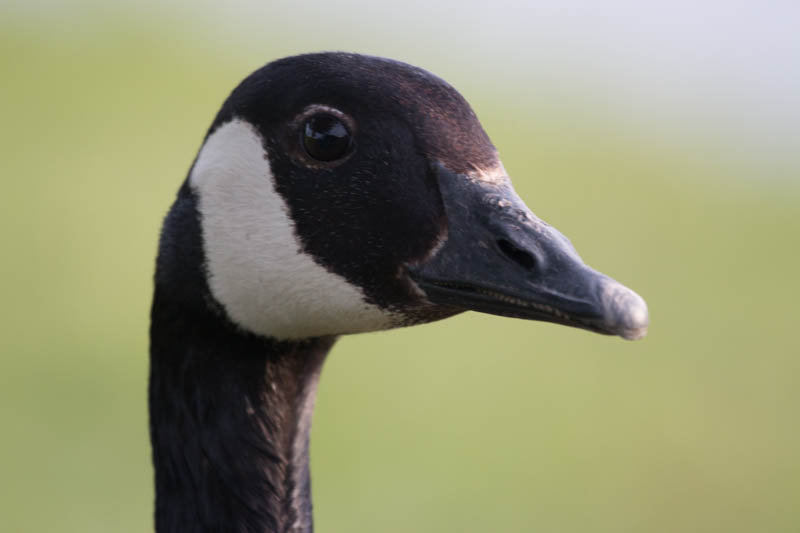goose-head: (151, 53, 650, 348)
